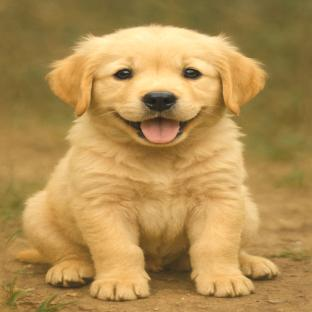Animal: (18, 25, 279, 301)
